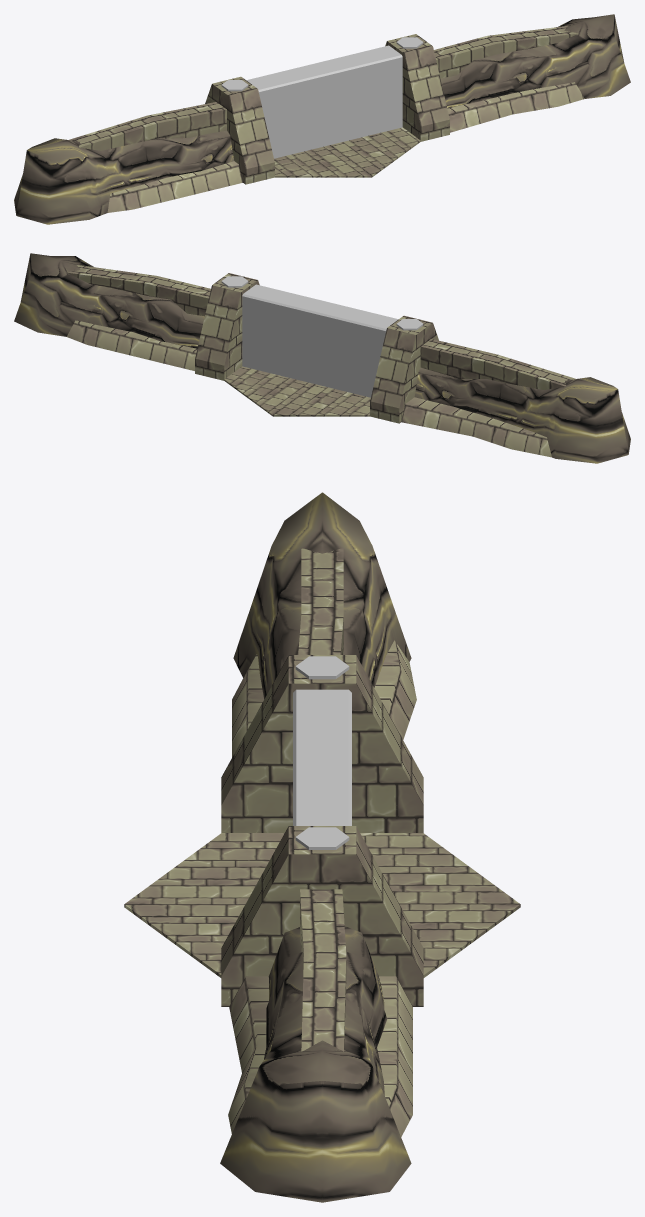
Rendered from Wall_TileEdge_Gate_01.FBX.
3 views of the same model, one above another, from view 1: azimuth 30°, elevation 25°; view 2: azimuth 150°, elevation 25°; view 3: azimuth 270°, elevation 25° (orthographic). The views are drawn at different scales.
Parts seen in each view (by area): view 1: Wall_TileEdge_Gate_01, Wall_TileEdge_Gate_01_Gate; view 2: Wall_TileEdge_Gate_01, Wall_TileEdge_Gate_01_Gate; view 3: Wall_TileEdge_Gate_01, Wall_TileEdge_Gate_01_Gate.
Boxes of the visible parts, x1,y1,x2,y2 form: Wall_TileEdge_Gate_01: (14,14,630,224); Wall_TileEdge_Gate_01_Gate: (246,45,402,158); Wall_TileEdge_Gate_01: (14,253,630,463); Wall_TileEdge_Gate_01_Gate: (242,284,398,397); Wall_TileEdge_Gate_01: (124,492,520,1202); Wall_TileEdge_Gate_01_Gate: (293,689,351,825).
Bounding box in the file's own units: 20.88 × 2.55 × 5.89.
